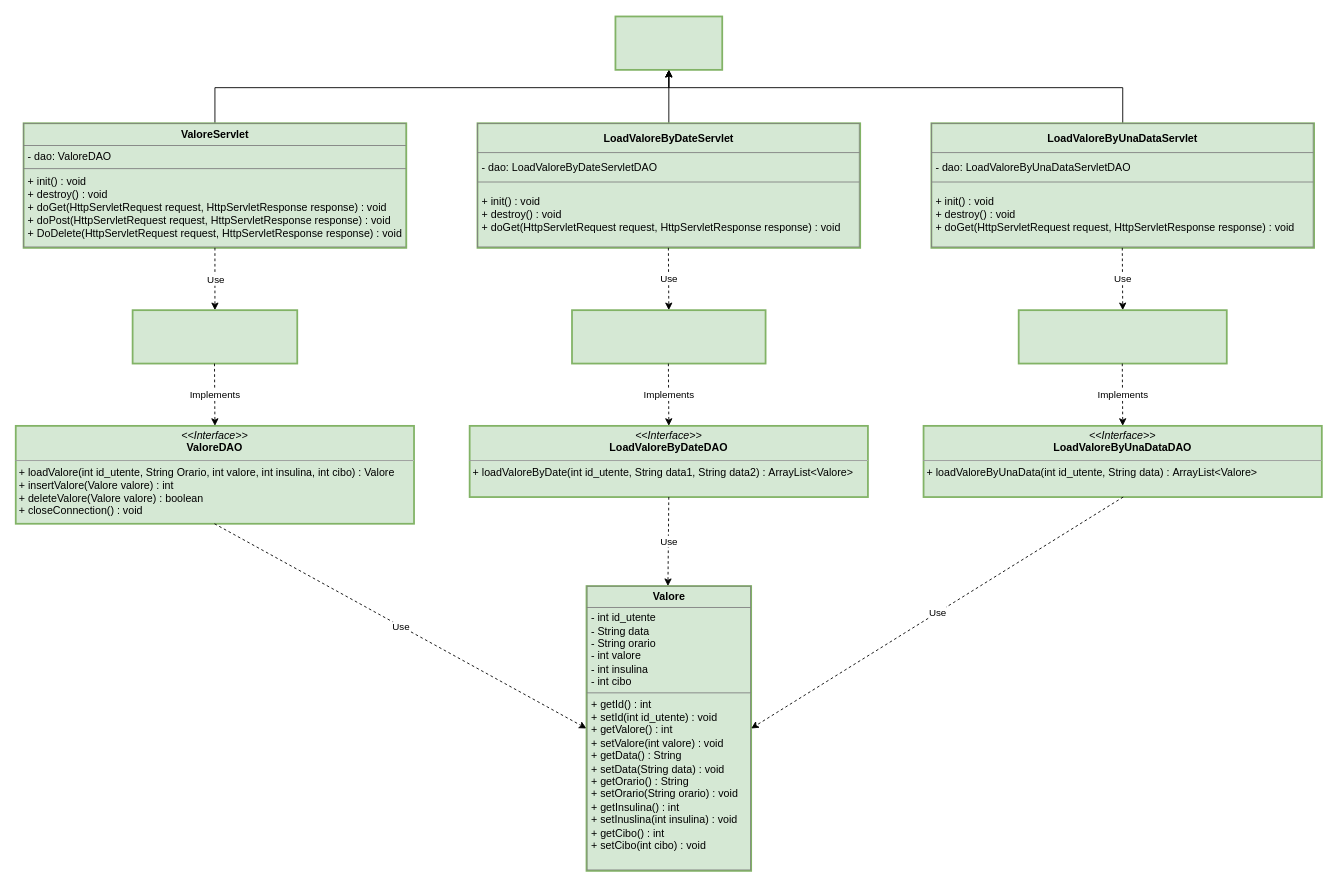
The diagram is 1339 pixels wide and 886 high, and some of its shapes have lost their labels. Each missing label, with the centre of its shape:
"HttpServlet" belongs at pixel 668 42.
"LoadValoreByDateDAOJDBCImpl - conn : Connection" belongs at pixel 668 336.
"LoadValoreByUnaDataDAOJDBCImpl - conn : Connection" belongs at pixel 1122 336.
"ValoreDAOJDBCImpl - conn : Connection" belongs at pixel 214 336.
